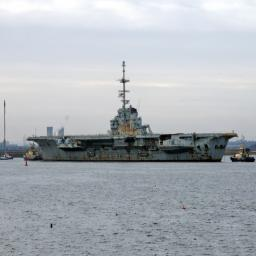Portanaves: (28, 59, 241, 164)
